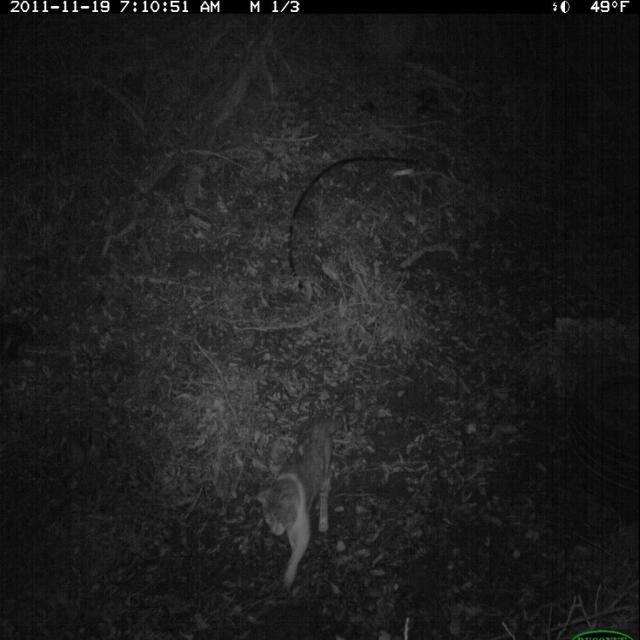cat: (250, 406, 354, 591)
